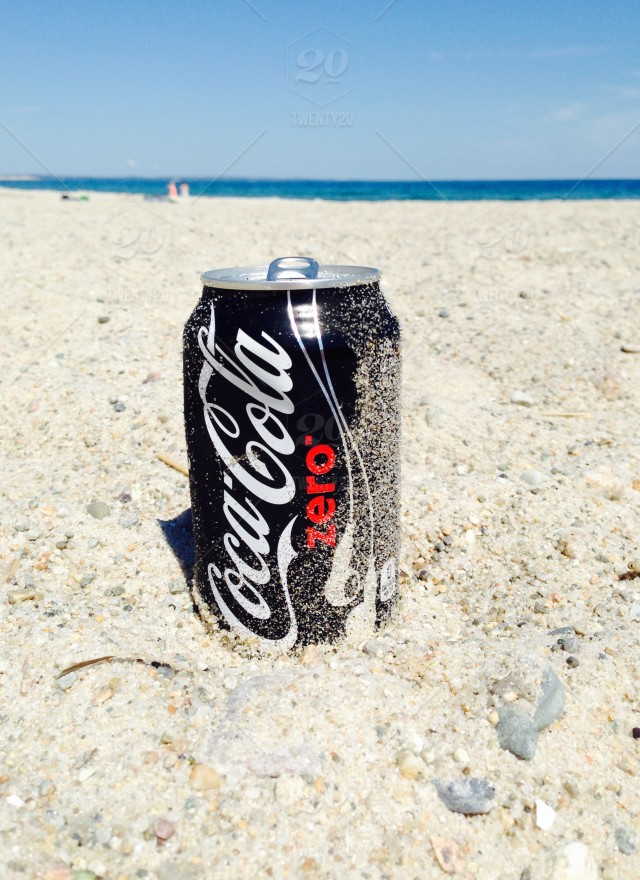can: (172, 243, 428, 665)
